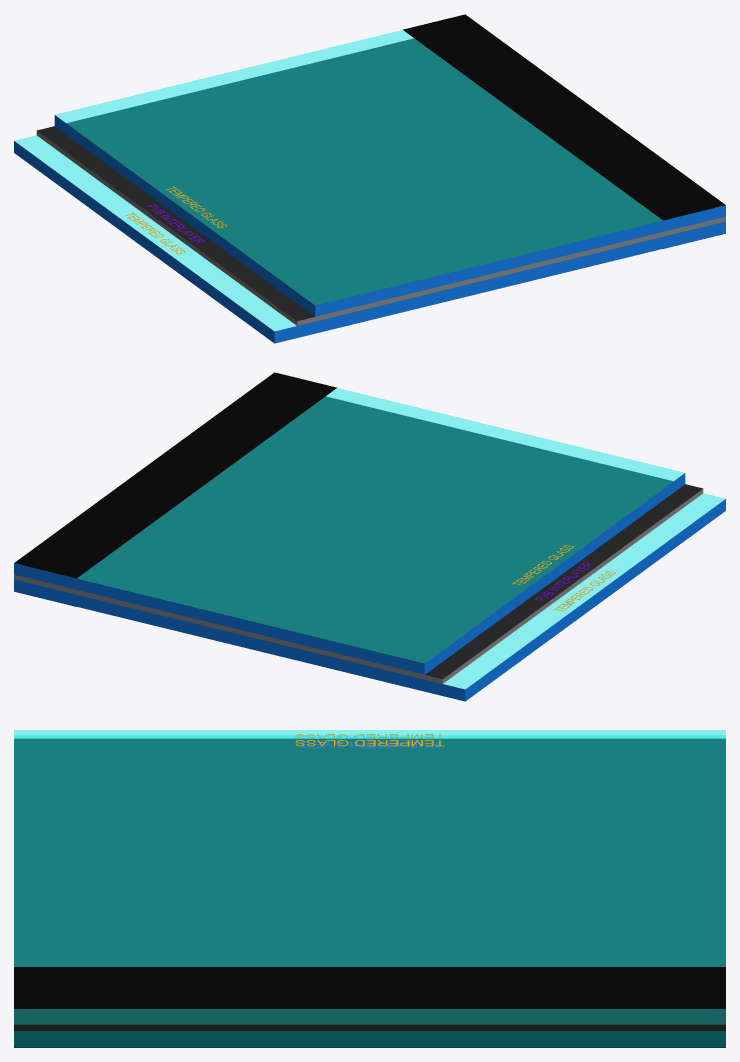
Rendered from patched_yeni_kesit_5.gltf.
3 renders of one model, top to bottom at view 1: azimuth 30°, elevation 25°; view 2: azimuth 150°, elevation 25°; view 3: azimuth 270°, elevation 25°, orthographic. The views are drawn at different scales.
Visible parts, largest first — view 1: yeni kesit 2; view 2: yeni kesit 2; view 3: yeni kesit 2.
Part boxes in pixels (box(x1,y1,x2,y2)): yeni kesit 2: box(14, 14, 725, 343); yeni kesit 2: box(14, 372, 725, 701); yeni kesit 2: box(14, 730, 725, 1047).
Size of the model in its own units: 0.5 by 0.0302 by 0.5.
